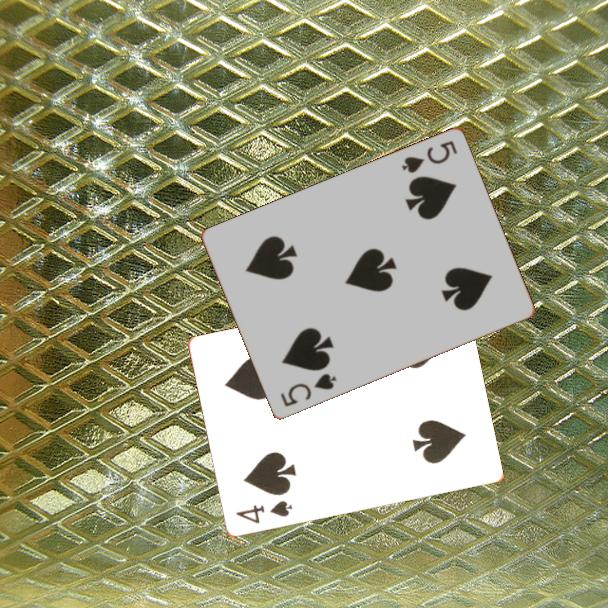s04: (232, 497, 295, 527)
s05: (277, 370, 339, 410), (398, 137, 460, 176)
